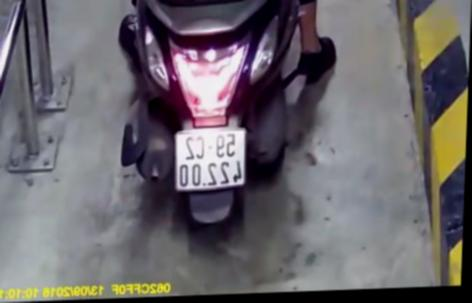License_Plate: (168, 119, 252, 198)
